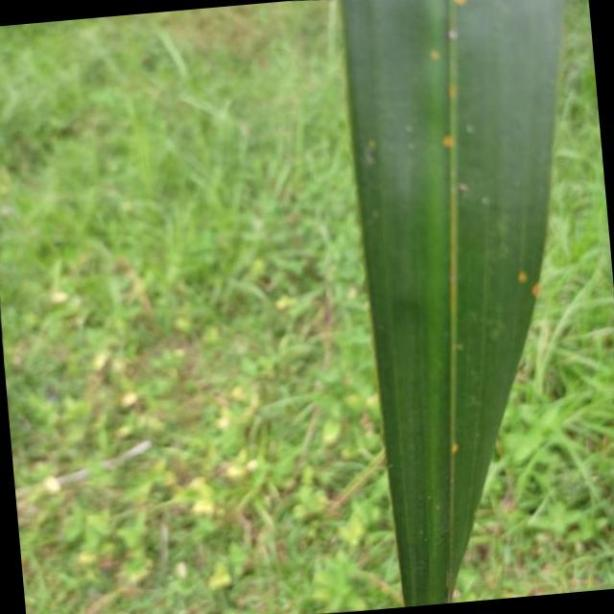Boron: (337, 0, 571, 614)
